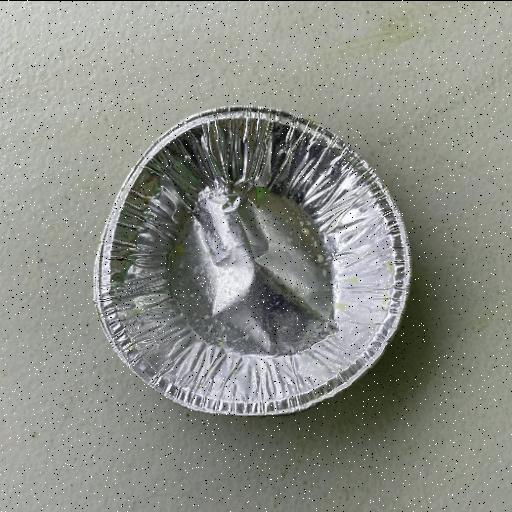Metal: (91, 104, 413, 418)
